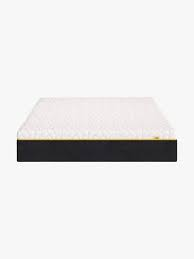bed-matress: (17, 95, 178, 163)
